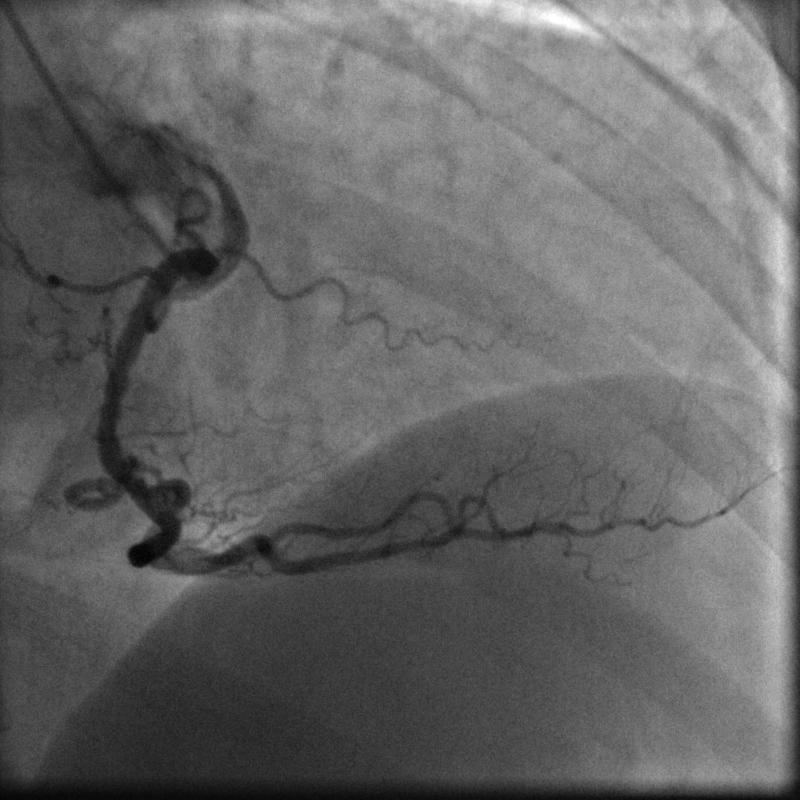Stenosis: (101, 466, 164, 501)
